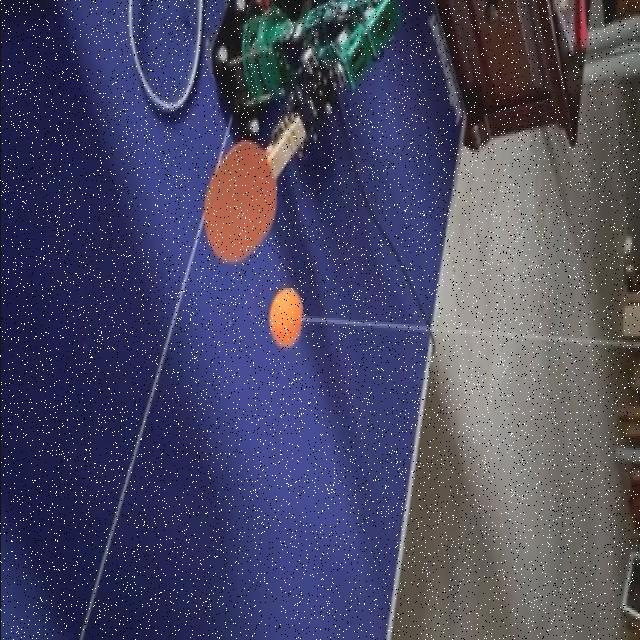ping-pong-ball: (270, 290, 302, 346)
